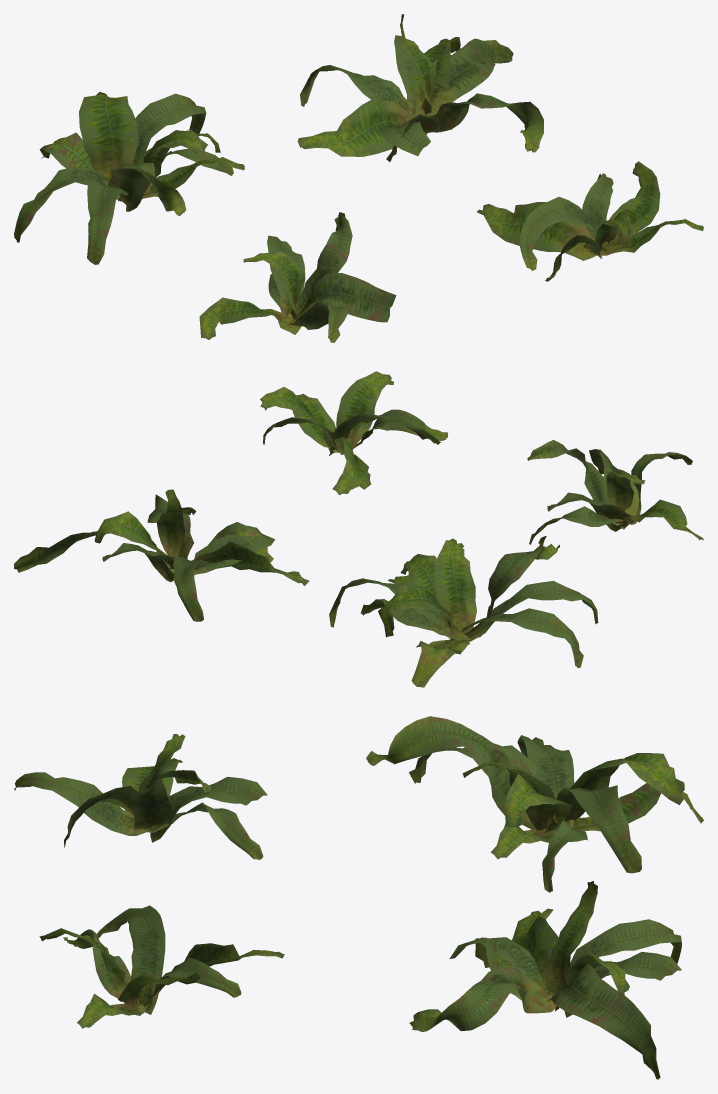
File: ph_fern.glb
3 renders of one model, top to bottom at view 1: azimuth 30°, elevation 25°; view 2: azimuth 150°, elevation 25°; view 3: azimuth 270°, elevation 25°, orthographic. The views are drawn at different scales.
Parts seen in each view (by area): view 1: fern_02_b, fern_02_c, fern_02_d, fern_02_a; view 2: fern_02_b, fern_02_c, fern_02_d, fern_02_a; view 3: fern_02_b, fern_02_c, fern_02_a, fern_02_d.
Part boxes in pixels (<box>): fern_02_b: <box>14,91,244,264</box>; fern_02_c: <box>297,14,543,161</box>; fern_02_d: <box>477,161,703,281</box>; fern_02_a: <box>199,212,396,342</box>; fern_02_b: <box>329,536,598,687</box>; fern_02_c: <box>14,489,309,621</box>; fern_02_d: <box>260,371,447,495</box>; fern_02_a: <box>527,440,703,544</box>; fern_02_b: <box>366,716,703,892</box>; fern_02_c: <box>409,881,681,1079</box>; fern_02_a: <box>14,734,267,859</box>; fern_02_d: <box>39,905,284,1028</box>.
Size of the model in its own units: 1.83 by 0.349 by 1.67.
Materials: 1 (1 with a texture image).
